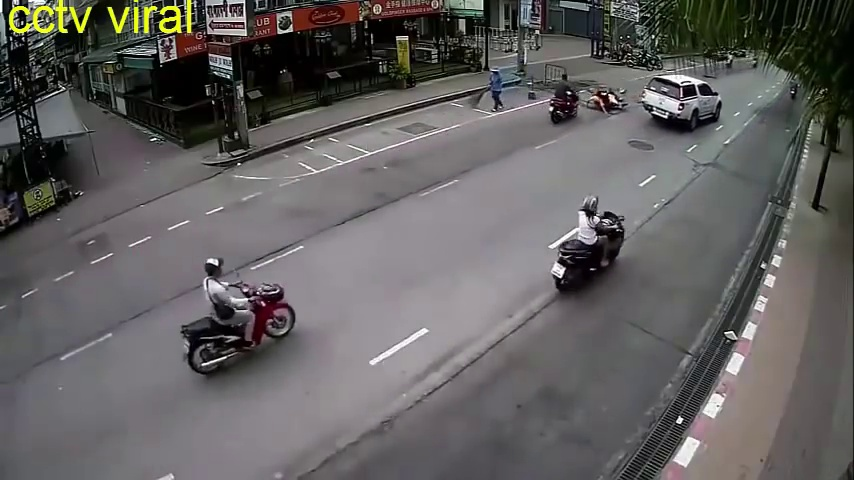car: (641, 74, 722, 130)
motorbike: (180, 255, 297, 380), (550, 197, 623, 289), (548, 73, 579, 127)
